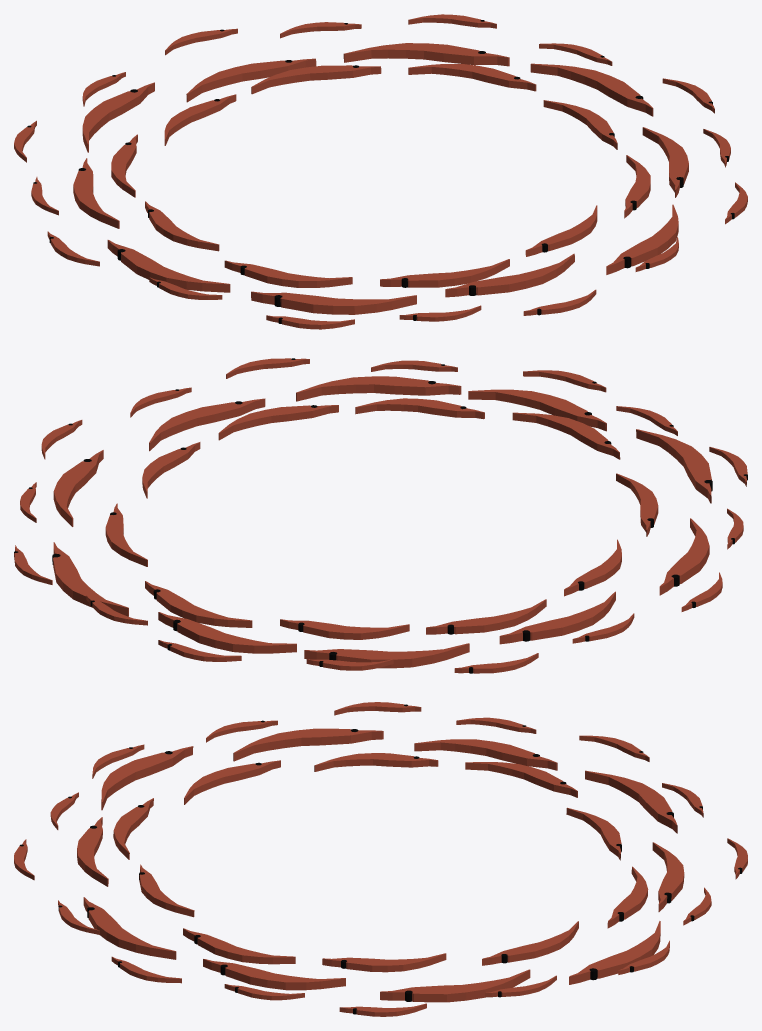
Rendered from krill_ball.fbx.
The picture shows the model from 3 angles, top to bottom: view 1: azimuth 30°, elevation 25°; view 2: azimuth 150°, elevation 25°; view 3: azimuth 270°, elevation 25°; orthographic projection. The views are drawn at different scales.
Parts seen in each view (by area): view 1: Krill.008, Krill.009, Krill.007, Krill.003, Krill.004, Krill.006, Krill.005, Krill, Krill.002, Krill.001, Krill.016, Krill.014 (+6 smaller); view 2: Krill.006, Krill.007, Krill.005, Krill.008, Krill.001, Krill.003, Krill.002, Krill.009, Krill, Krill.004, Krill.012, Krill.014 (+6 smaller); view 3: Krill.009, Krill.005, Krill.006, Krill.008, Krill.001, Krill, Krill.004, Krill.007, Krill.003, Krill.002, Krill.010, Krill.011 (+6 smaller).
Boxes of the visible parts, x1,y1,x2,y2 form: Krill.008: (251,43,509,314); Krill.009: (107,63,653,292); Krill.007: (186,58,574,297); Krill.003: (251,65,509,287); Krill.004: (224,64,536,287); Krill.006: (82,82,678,274); Krill.005: (73,127,688,228); Krill: (145,100,617,251); Krill.002: (164,94,597,256); Krill.001: (111,134,650,218); Krill.016: (266,14,496,329); Krill.014: (165,28,596,315); Krill.006: (296,376,469,668); Krill.007: (158,389,606,653); Krill.005: (149,398,615,644); Krill.008: (52,429,712,616); Krill.001: (218,405,546,634); Krill.003: (145,412,620,627); Krill.002: (280,398,484,639); Krill.009: (53,450,709,595); Krill: (142,442,621,596); Krill.004: (105,473,658,566); Krill.012: (226,358,538,673); Krill.014: (158,370,606,661); Krill.009: (233,728,530,1002); Krill.005: (203,739,557,990); Krill.006: (83,770,677,959); Krill.008: (101,746,660,984); Krill.001: (183,762,577,964); Krill: (314,753,446,972); Krill.004: (184,760,578,965); Krill.007: (77,817,684,911); Krill.003: (113,798,648,928); Krill.002: (139,807,621,917); Krill.010: (334,702,426,1016); Krill.011: (224,717,536,1000).
Size of the model in its own units: 348 by 14.1 by 348.
